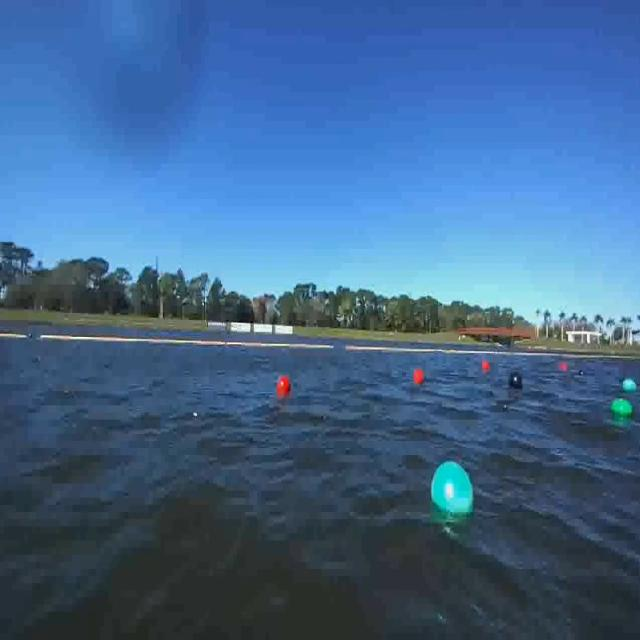black-buoy: (509, 372, 525, 392)
green-buoy: (432, 463, 476, 520), (612, 401, 636, 420), (623, 380, 637, 392)
red-buoy: (278, 376, 291, 396), (414, 368, 424, 384), (483, 361, 491, 370)
